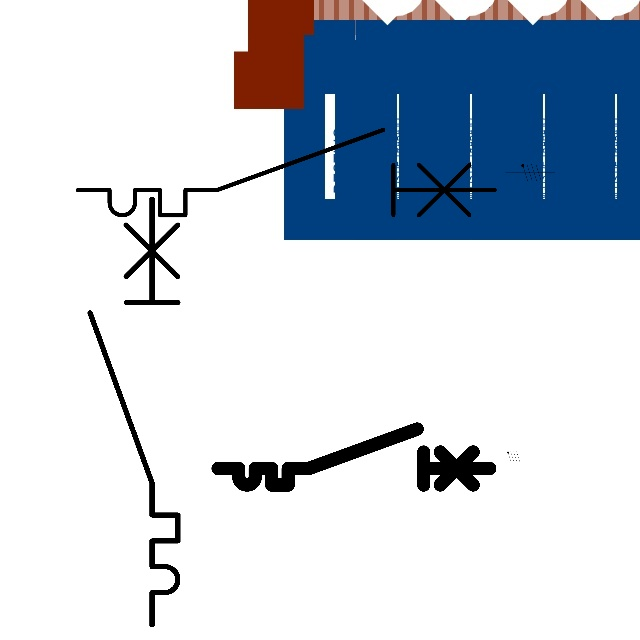interruptor_termomagnetico: (79, 188, 189, 636), (67, 119, 505, 226), (211, 422, 496, 492)
